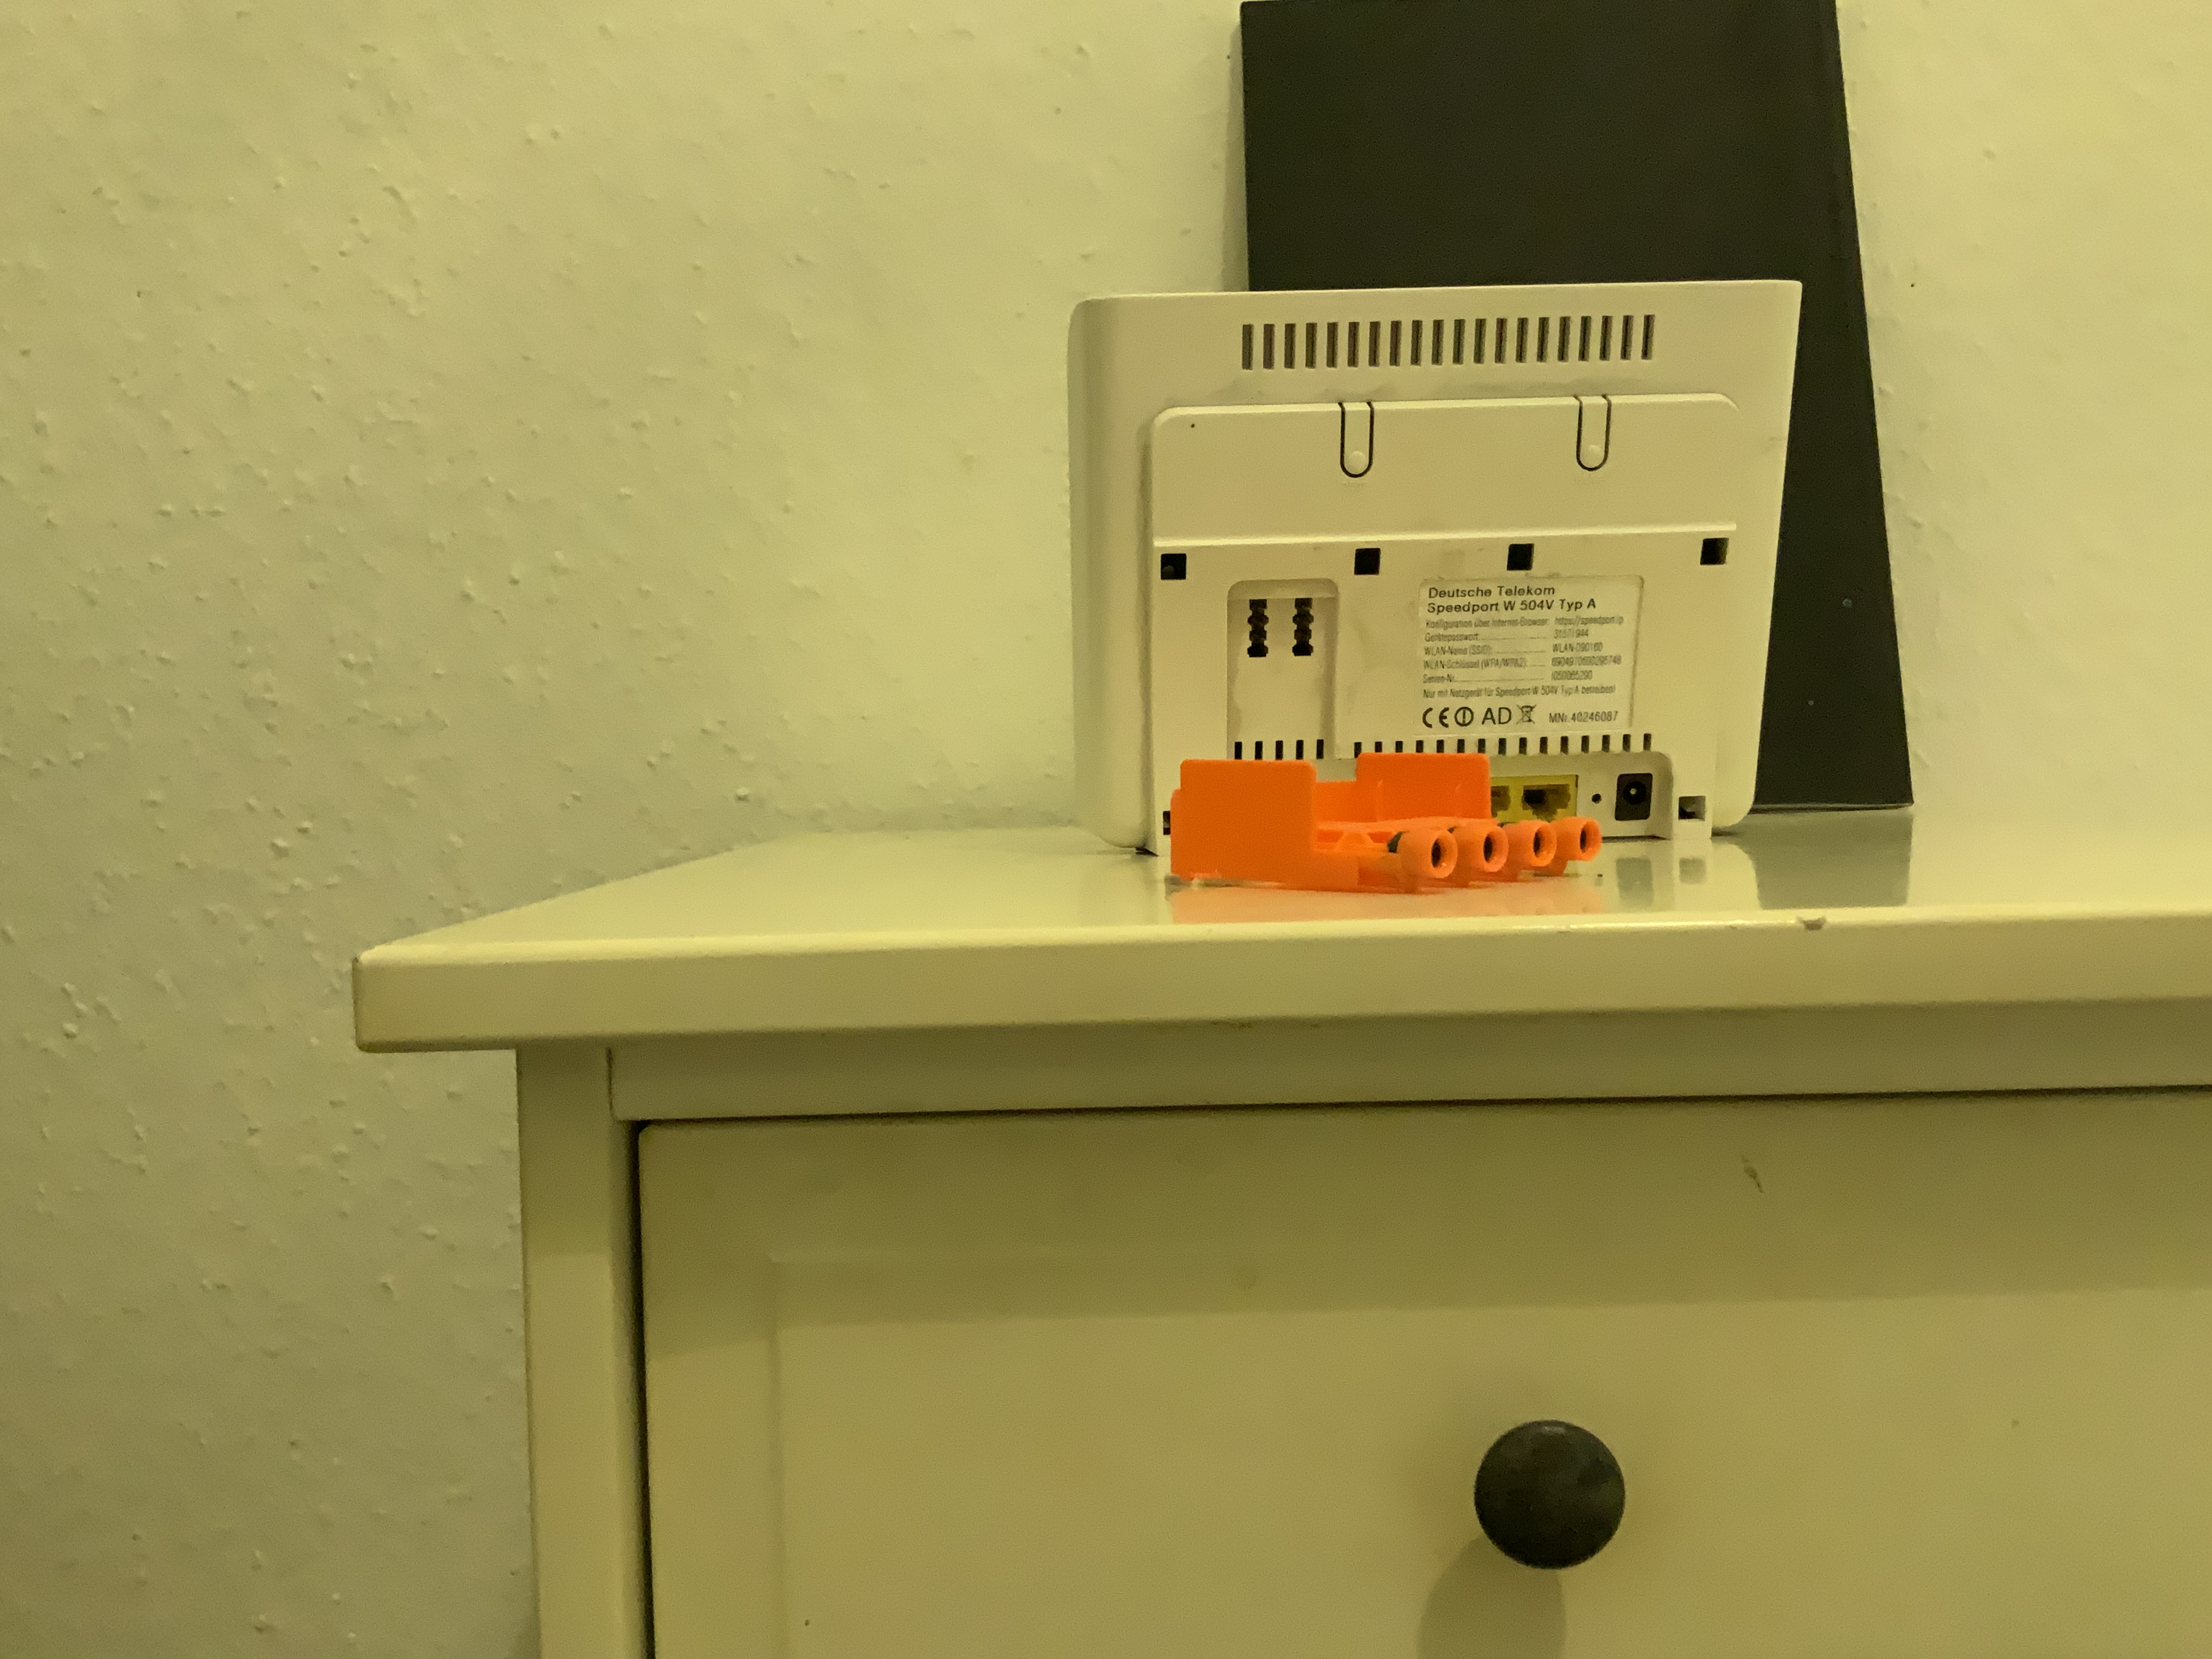Router2: (1062, 272, 1810, 873)
